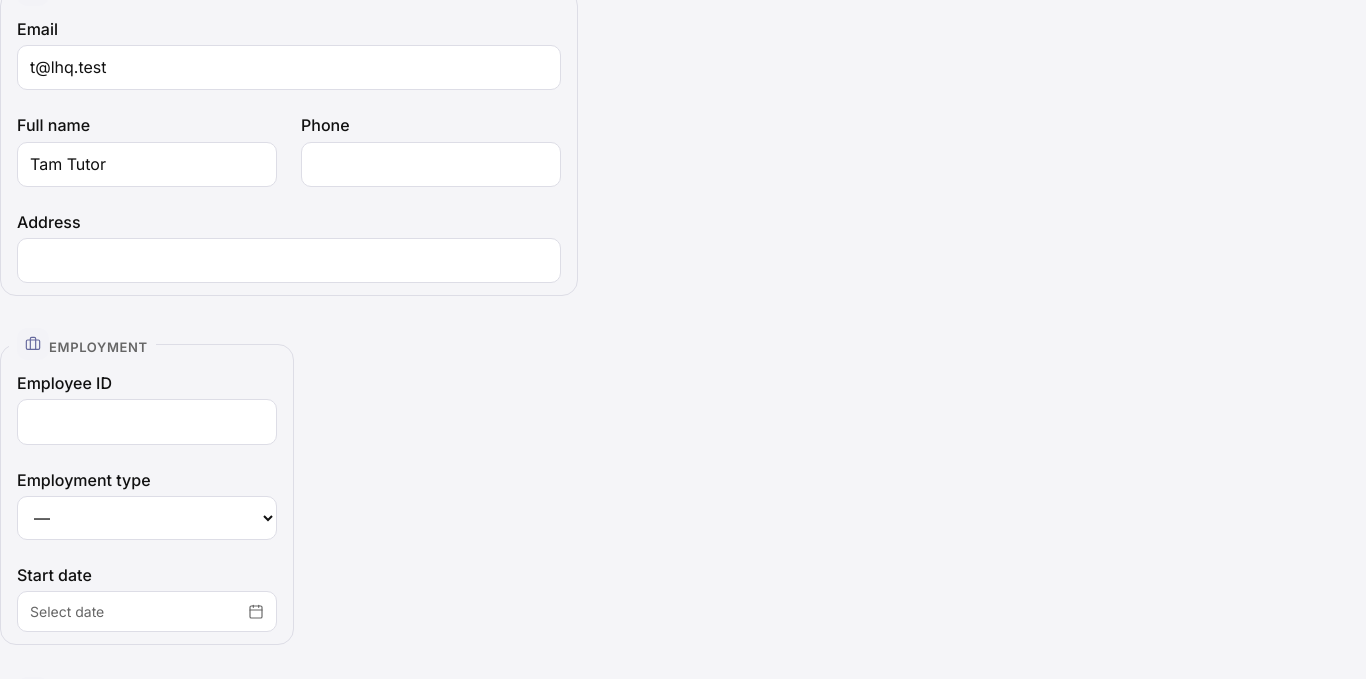
UserEditForm permission gating › start date field › picking a day sets the start date
This screenshot has width=1366, height=679.
Click the button named "Start date".
click(67, 611)  # box [17,591,277,632]
(page scrolled)
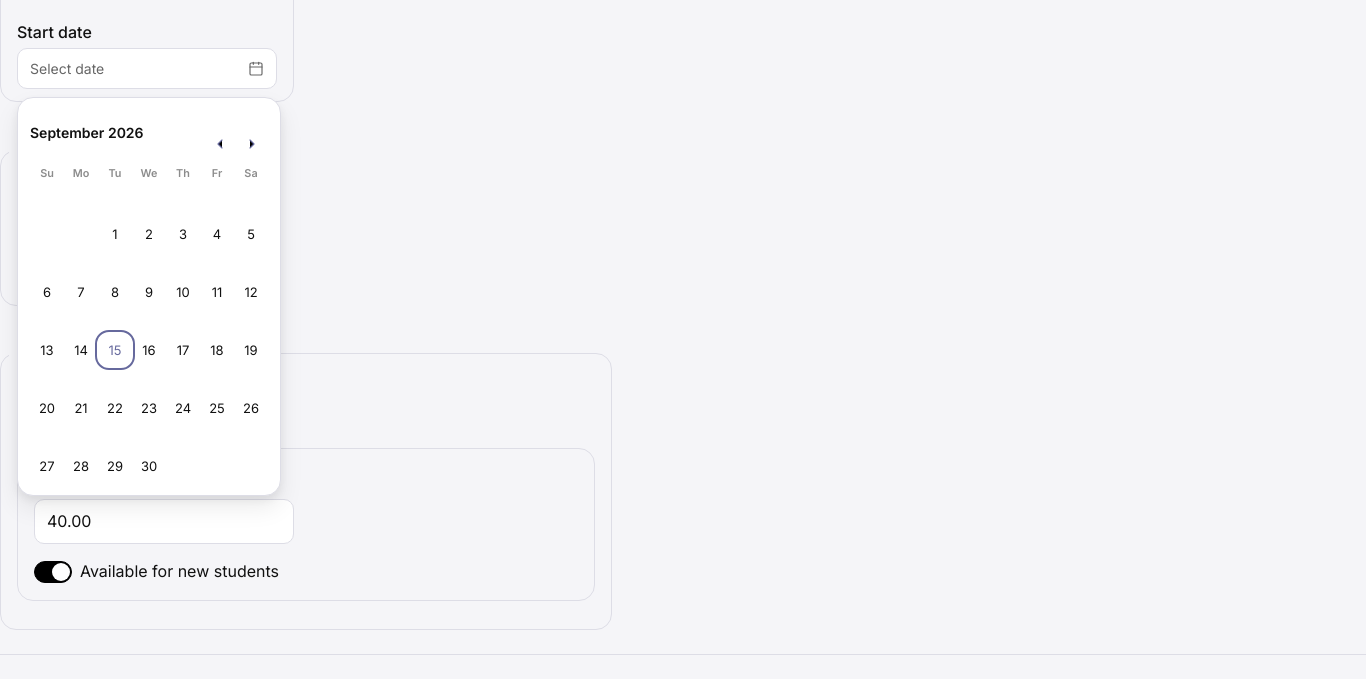
Click the button with class "rdp-day_button" showing "15".
click(115, 350)  # box [99,334,131,366]
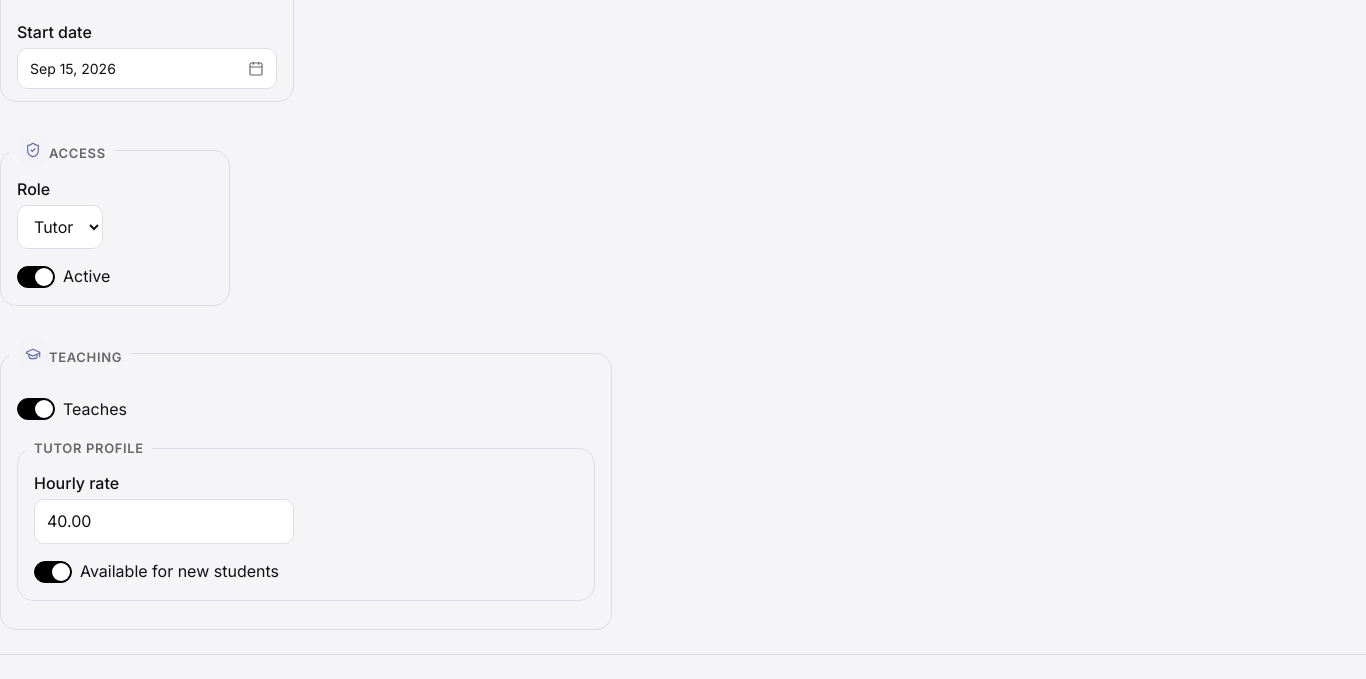
Expected: the button named "Start date" reads "Sep 15, 2026", [17,48,277,89]
